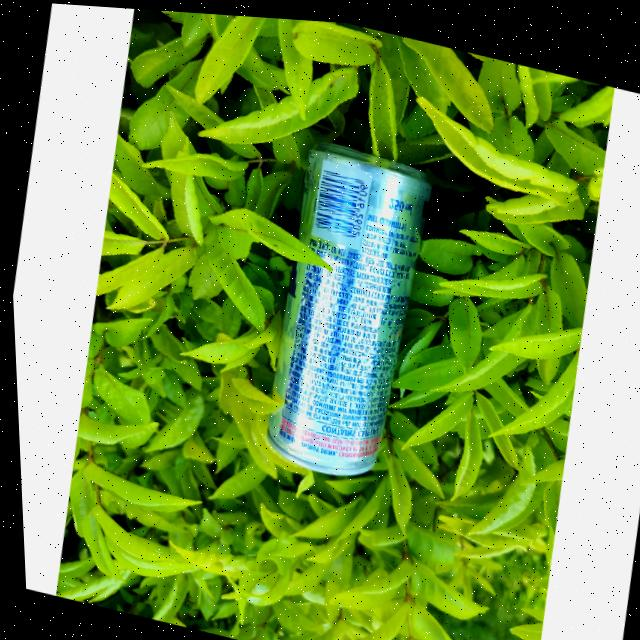Redbull: (242, 132, 443, 486)
